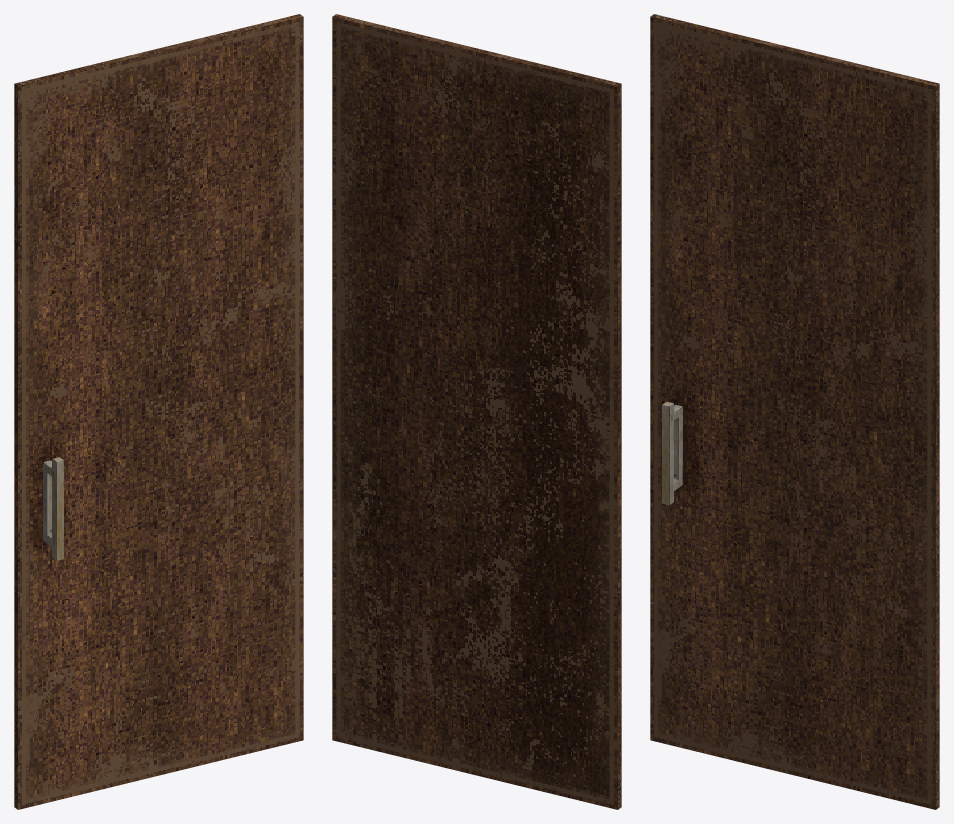
The model's file is Wardrobe_door_Left.glb.
3 renders of one model, left to right at view 1: azimuth 30°, elevation 25°; view 2: azimuth 150°, elevation 25°; view 3: azimuth 330°, elevation 25°, orthographic.
Parts seen in each view (by area): view 1: Cube.294; view 2: Cube.294; view 3: Cube.294.
Part boxes in pixels (box(x1,y1,x2,y2)): Cube.294: box(14, 14, 303, 809); Cube.294: box(332, 14, 621, 809); Cube.294: box(650, 14, 939, 809).
Size of the model in its own units: 0.4509 by 1.09 by 0.0469.
1 material, 1 textured.
